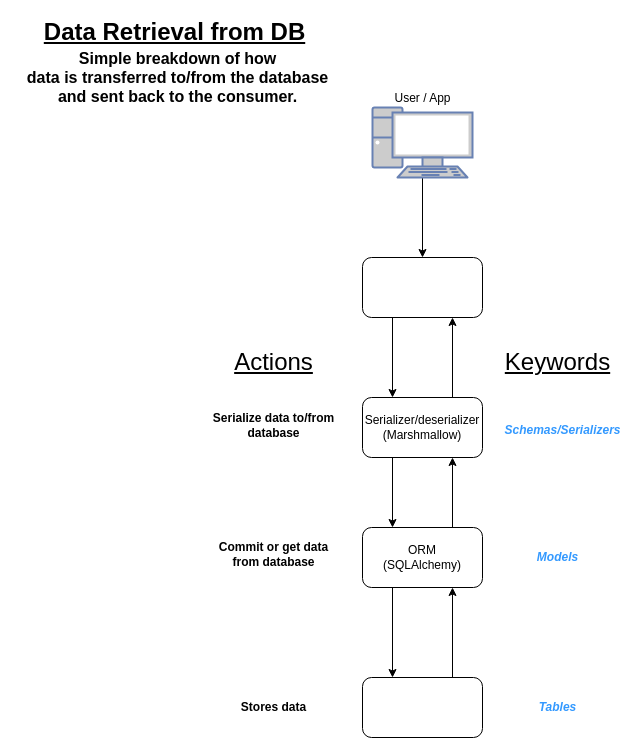
Some shapes in this 644 by 755 pixel diagram are drawn without their labels. Each missing label, with the centre of its shape:
"Database (SQLite)" goes at (x=422, y=707).
"Flask app (Python)" goes at (x=422, y=287).
